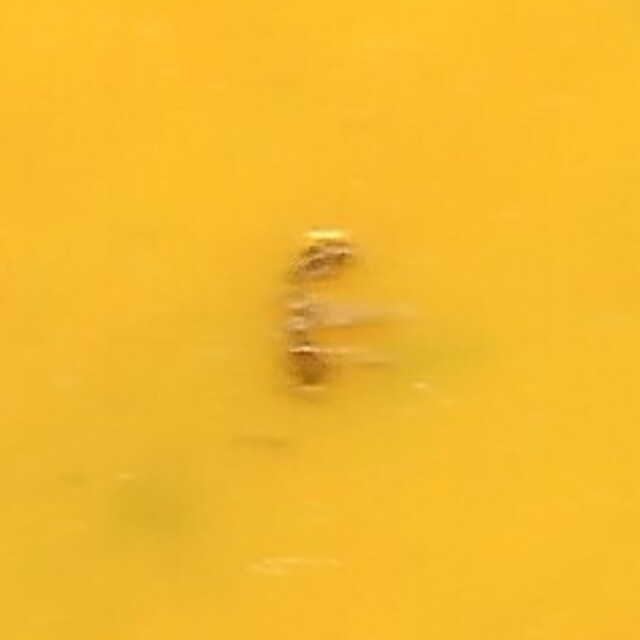Hymenoptera: (271, 234, 369, 406)
